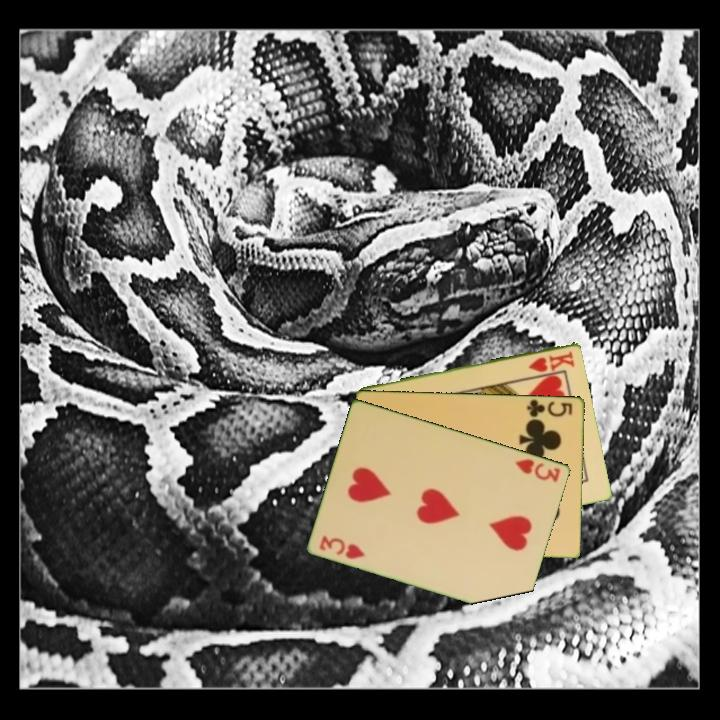3h: (512, 455, 564, 485), (316, 532, 368, 562)
5c: (524, 396, 575, 420)
Kh: (525, 348, 578, 375)
